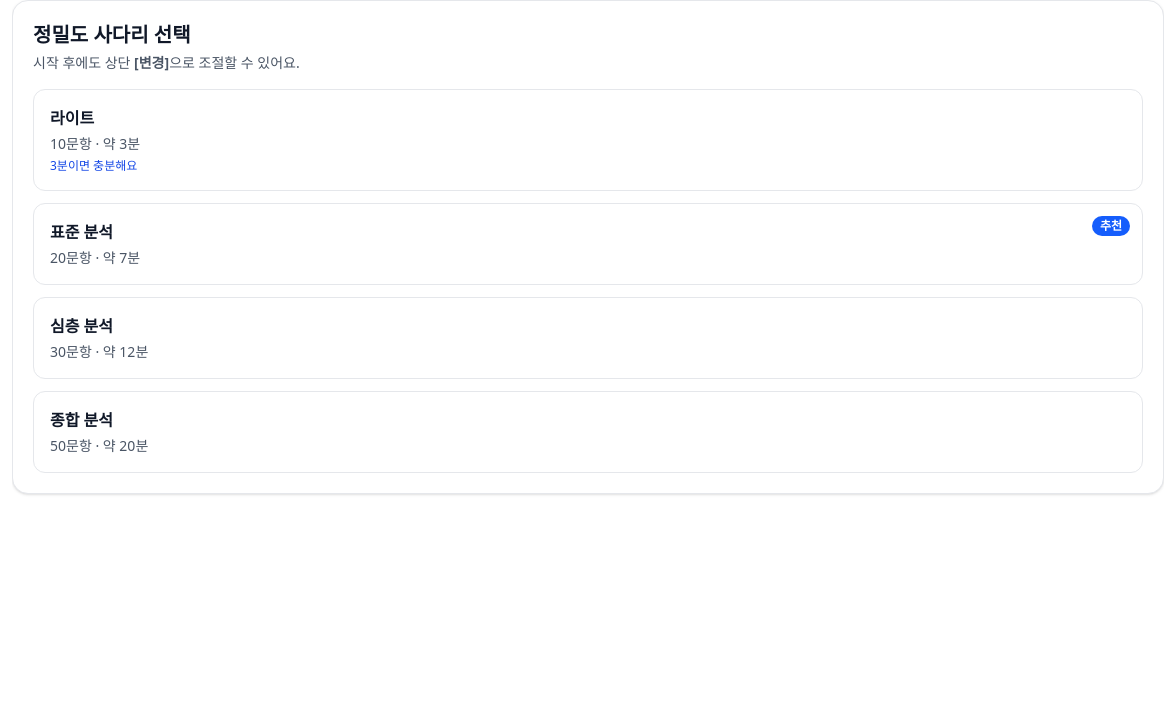
Scenario: OnboardingFlow › starts questions after selecting a precision
The image size is (1176, 720).
Click the text "표준 분석" at {"x": 82, "y": 232}, box x1=50 y1=221 x2=113 y2=243
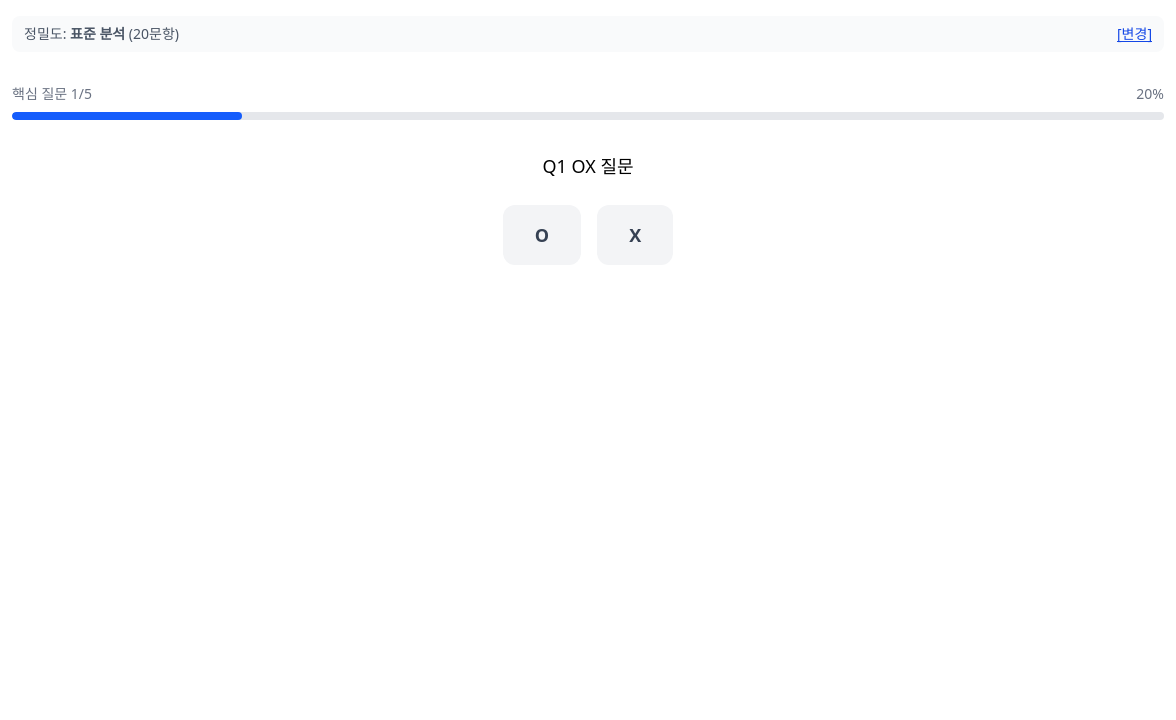
Expected: the button "[변경]" is shown, x1=1117 y1=24 x2=1152 y2=44
Expected: the text "Q1 OX 질문" is shown, x1=542 y1=152 x2=634 y2=181
Expected: the progress indicator is shown, x1=12 y1=84 x2=1164 y2=120
